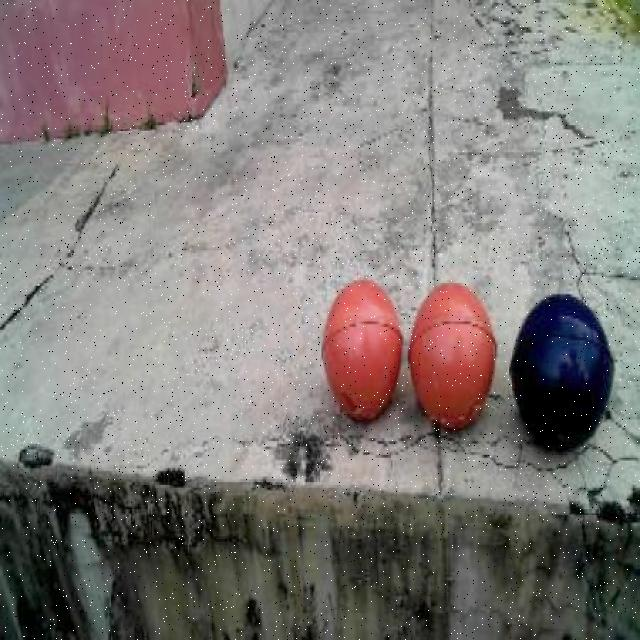buoy: (500, 281, 624, 469), (403, 270, 504, 447), (315, 262, 407, 426)
